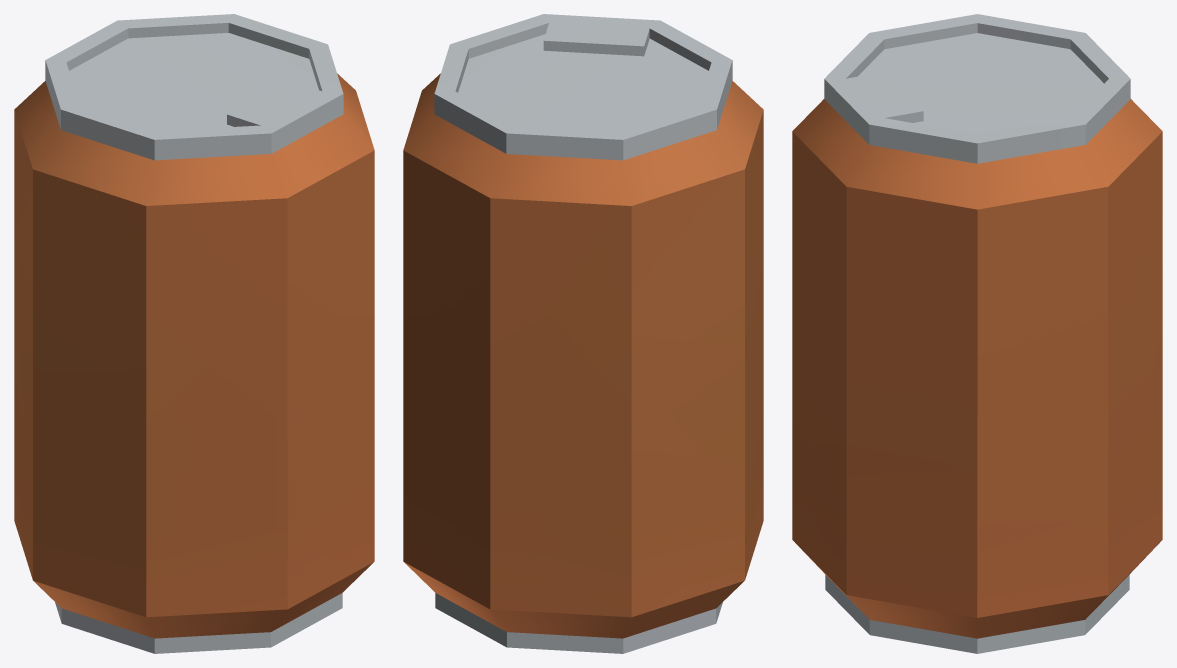
The model's file is Metal01Can_Alisson3d.fbx.
The picture shows the model from 3 angles, left to right: view 1: azimuth 30°, elevation 25°; view 2: azimuth 150°, elevation 25°; view 3: azimuth 270°, elevation 25°; orthographic projection.
Visible parts, largest first — view 1: MetalCan; view 2: MetalCan; view 3: MetalCan.
Boxes of the visible parts, bbox=[...] form: MetalCan: bbox=[14, 14, 374, 653]; MetalCan: bbox=[403, 14, 763, 653]; MetalCan: bbox=[792, 14, 1162, 653].
Bounding box in the file's own units: 26.93 × 40.98 × 26.93.
